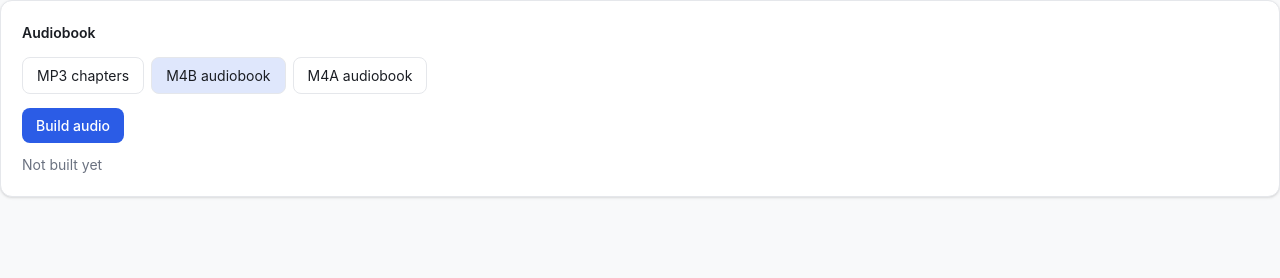
Test case: Audiobook — Step 7 MP3/M4B/M4A › merge phase shows chapter progress with its own ETA
Click the button with test id "audio-build" at (73, 126), box [22, 108, 124, 143]
Wait 31000 ms
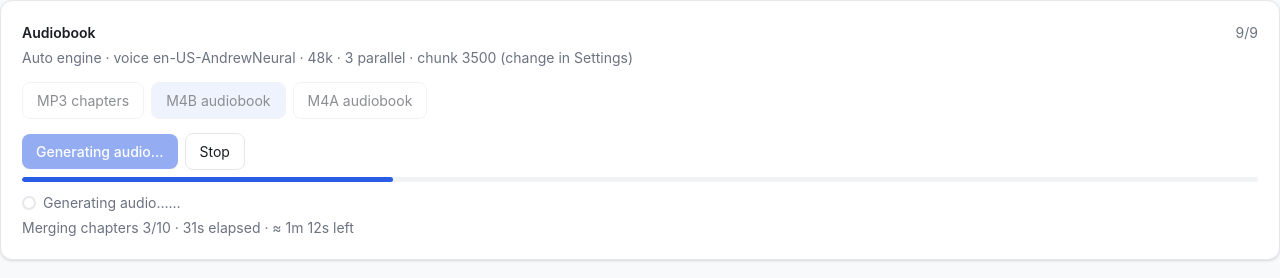
expect the message "Generating audio……" is shown: met, box [22, 194, 181, 211]
expect the text with test id "audio-eta" reads "Merging chapters 3/10 · 31s elapsed · ≈ 1m 12s left": met, box [22, 219, 171, 236]
expect the text with test id "audio-eta" shows "1m 12s": met, box [260, 219, 354, 236]
